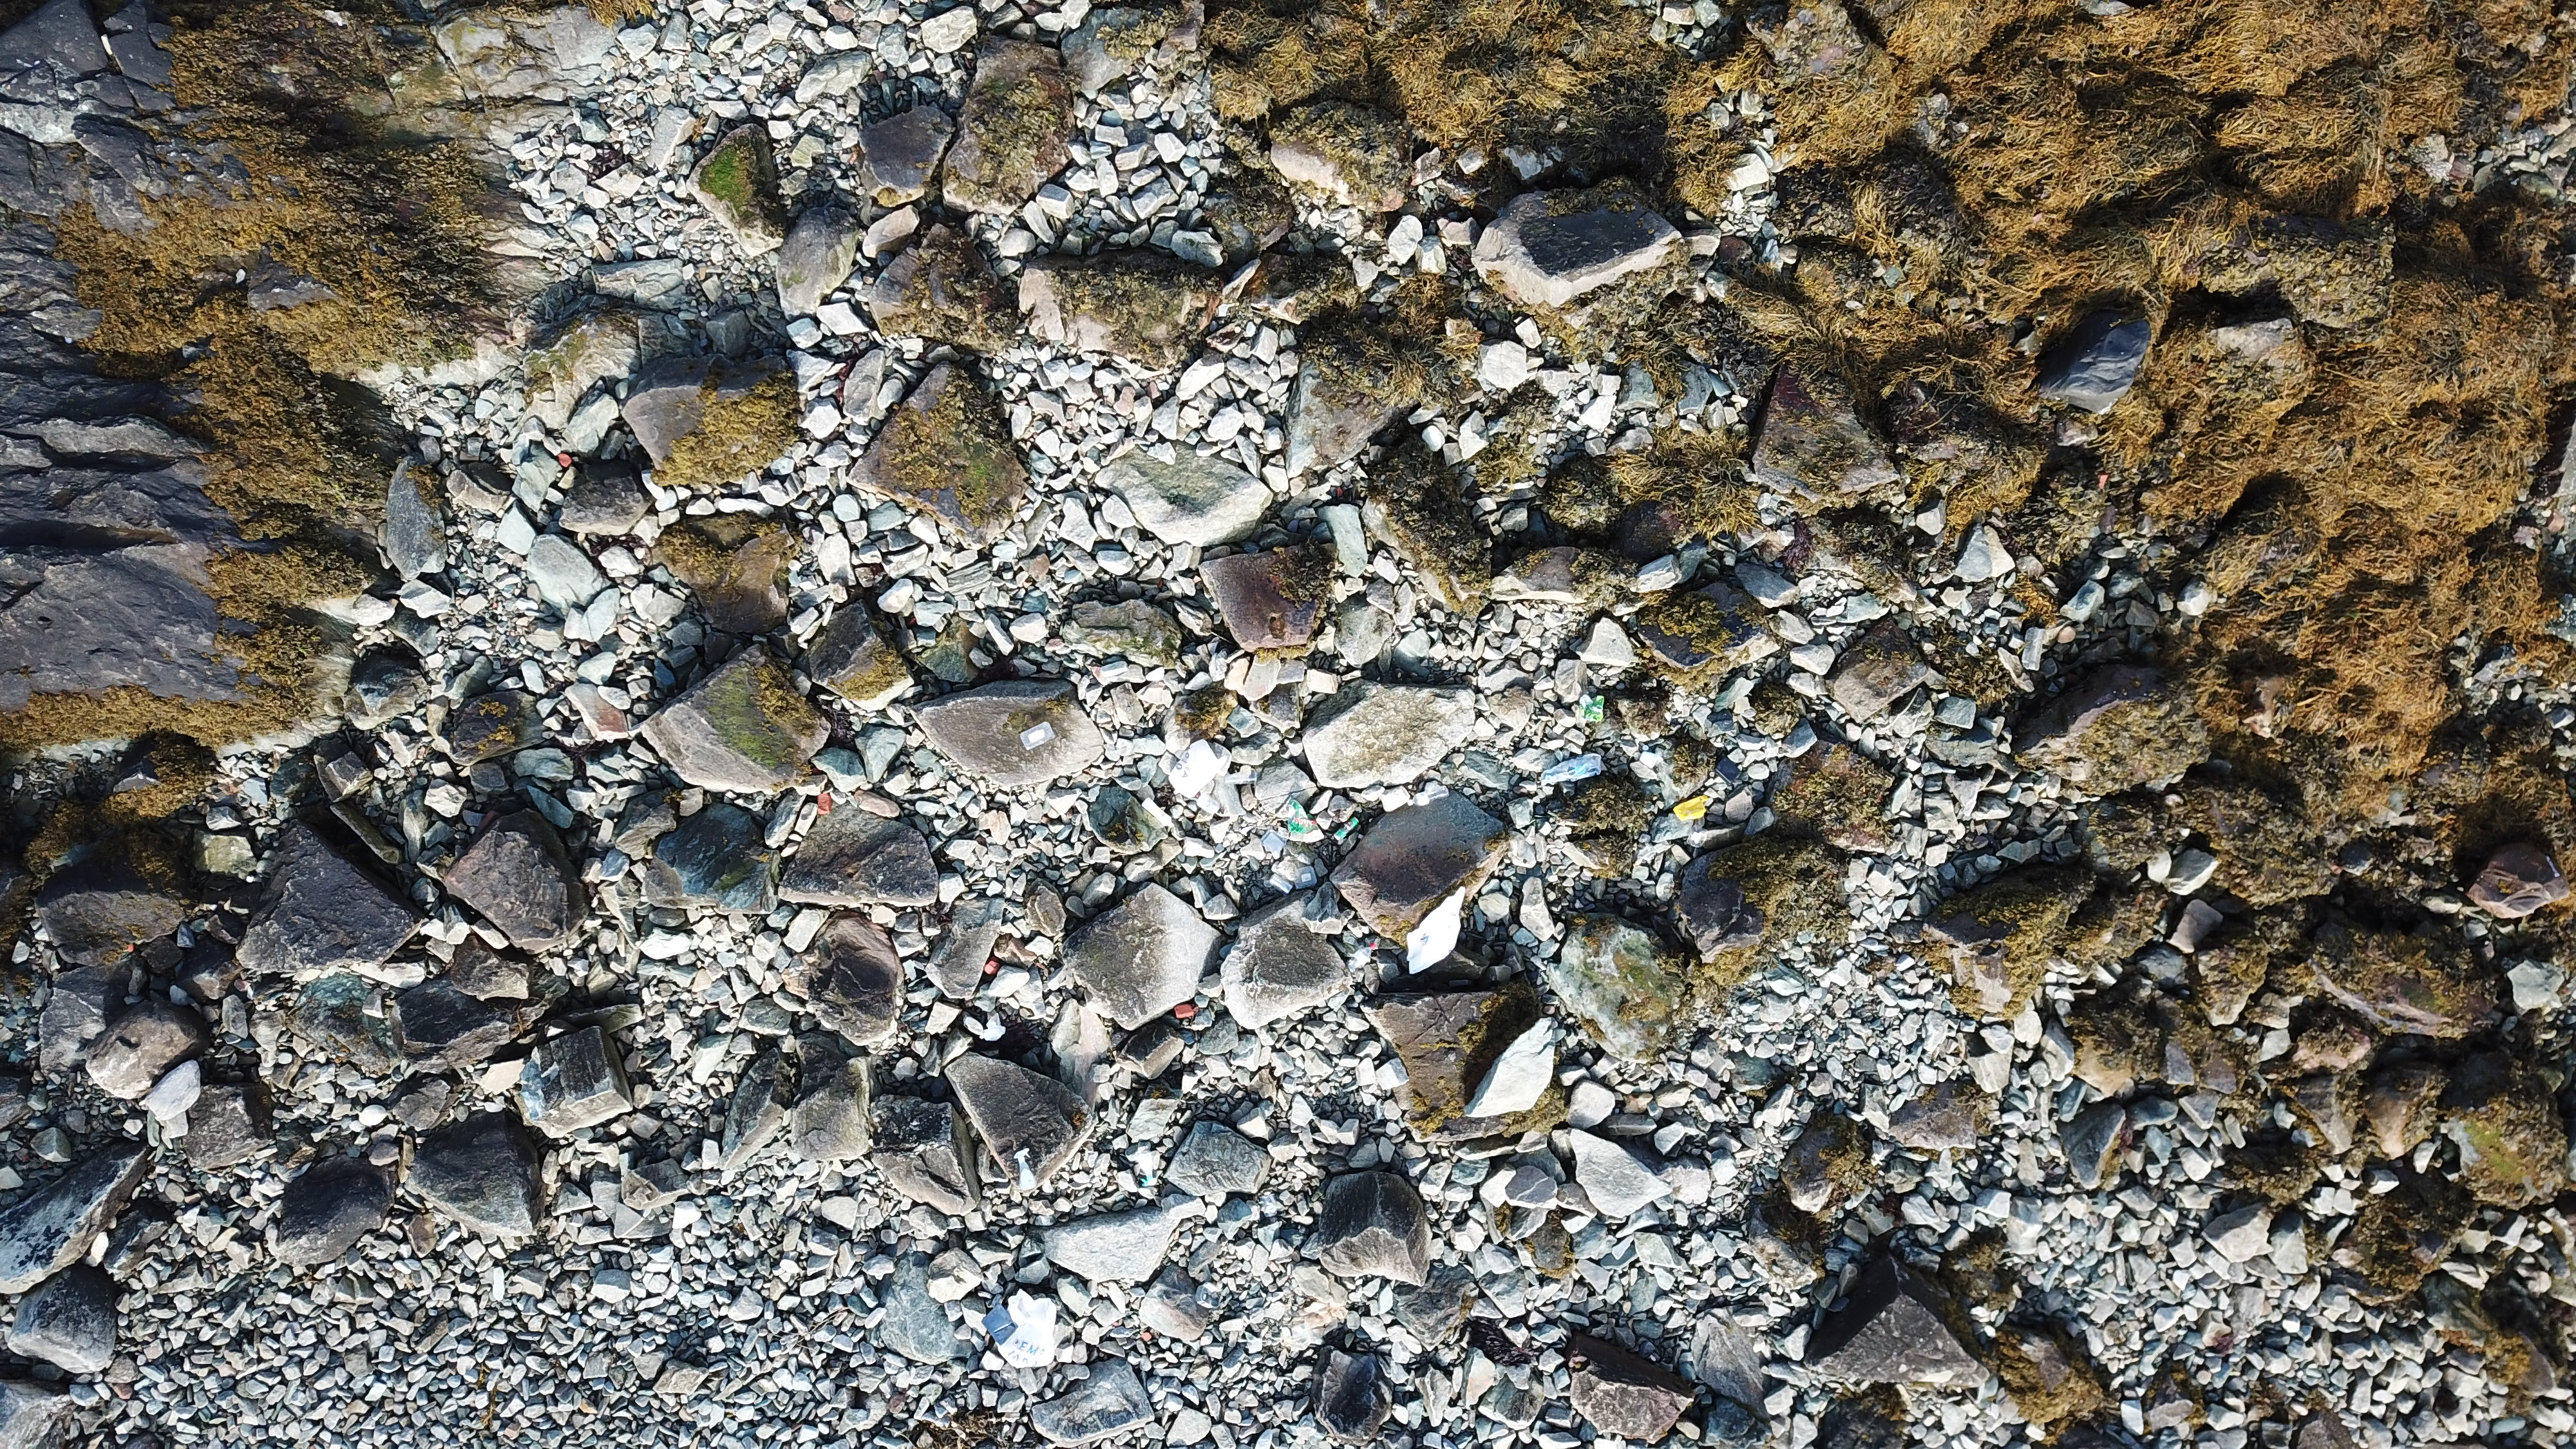Can: (1334, 817, 1359, 840)
Plastic: (996, 1288, 1058, 1368), (1168, 740, 1223, 798), (1541, 754, 1603, 787), (982, 1304, 1017, 1345), (1019, 720, 1056, 752), (1286, 800, 1320, 833), (1141, 798, 1175, 830), (1014, 1148, 1037, 1191), (1674, 798, 1707, 823), (980, 1012, 1007, 1042), (1580, 694, 1605, 724), (1223, 768, 1260, 787), (1261, 828, 1286, 855), (1293, 865, 1318, 888), (1270, 874, 1293, 893)
PlasticBottle: (1408, 784, 1451, 807)
